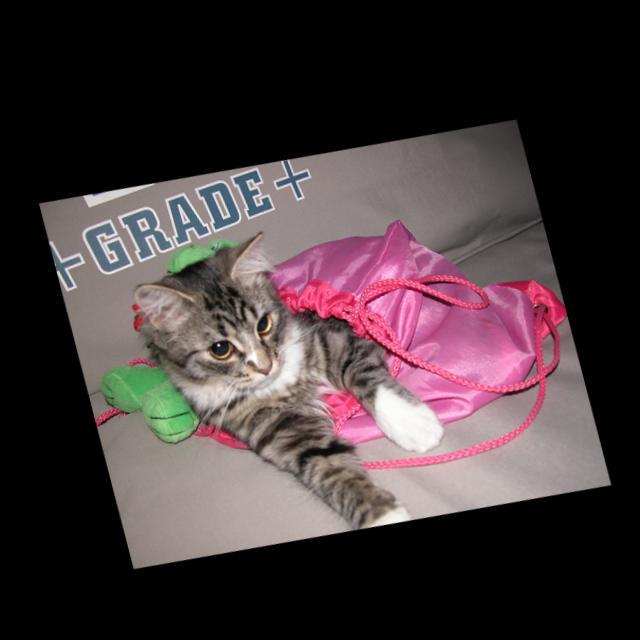animals: (128, 220, 295, 396)
